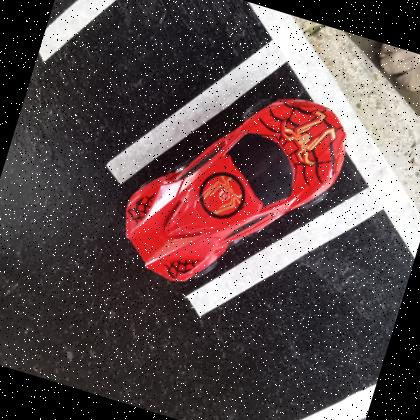Car: (124, 94, 347, 282)
